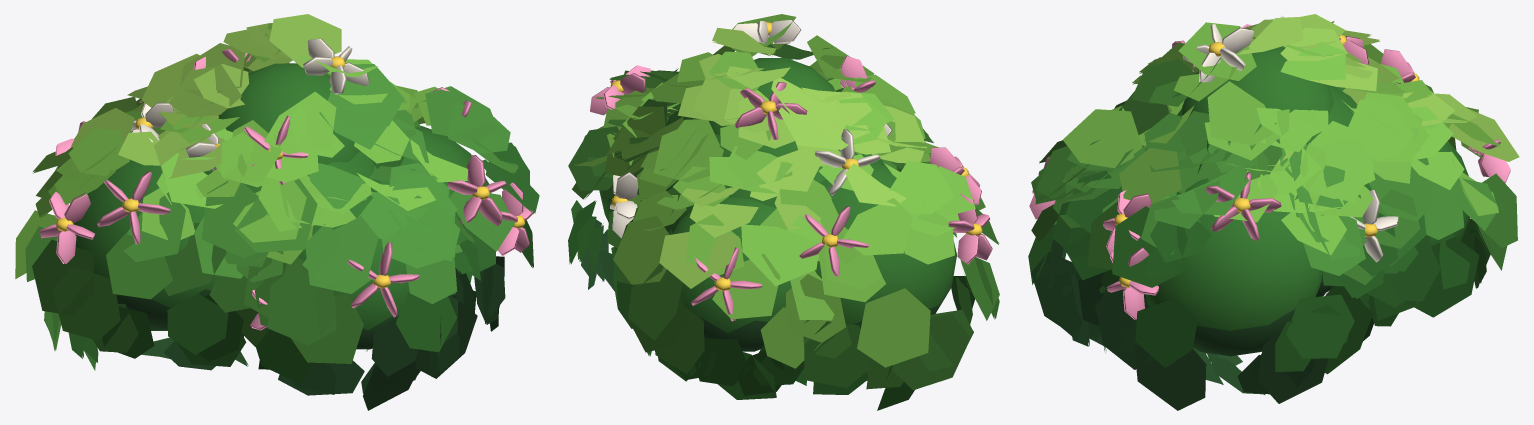
File: BushFlower.glb
3 views of the same model, side by side, from view 1: azimuth 30°, elevation 25°; view 2: azimuth 150°, elevation 25°; view 3: azimuth 270°, elevation 25° (orthographic). The views are drawn at different scales.
Parts seen in each view (by area): view 1: Sway; view 2: Sway; view 3: Sway.
Part boxes in pixels (x1=…): Sway: x1=15, y1=14, x2=539, y2=410; Sway: x1=568, y1=14, x2=999, y2=410; Sway: x1=1028, y1=14, x2=1519, y2=410.
Bounding box in the file's own units: 4.59 × 3.23 × 4.31.
1 material, 1 textured.
